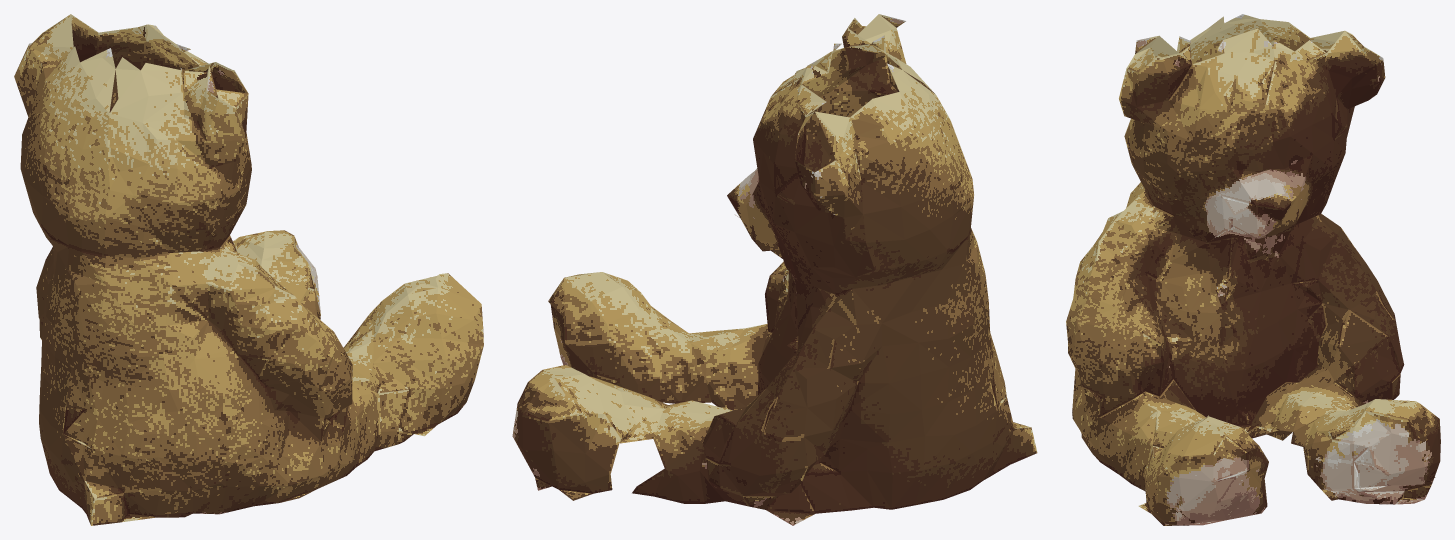
The model's file is teddy.glb.
3 views of the same model, side by side, from view 1: azimuth 30°, elevation 25°; view 2: azimuth 150°, elevation 25°; view 3: azimuth 270°, elevation 25° (orthographic). The views are drawn at different scales.
Visible parts, largest first — view 1: model_m; view 2: model_m; view 3: model_m.
Boxes of the visible parts, box(x1,y1,x2,y2) form: model_m: box(14, 14, 483, 525); model_m: box(512, 14, 1037, 525); model_m: box(1066, 14, 1440, 525).
Size of the model in its own units: 37.47 by 35.72 by 31.03.
1 material, 1 textured.
